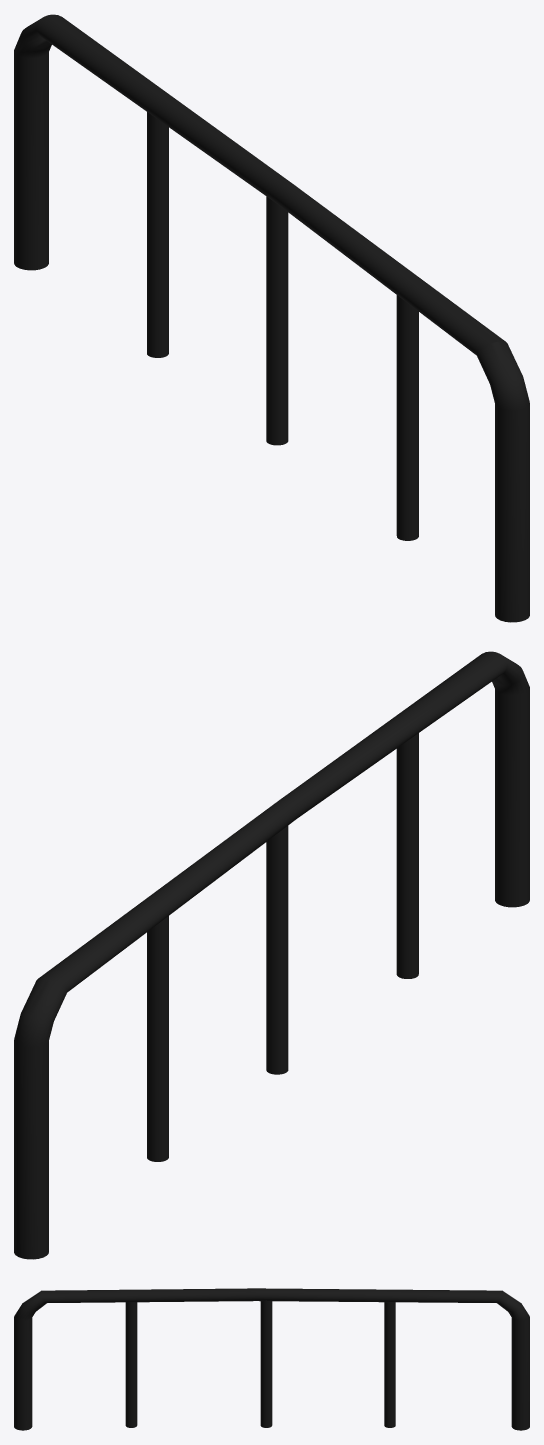
The model's file is hek industrial1.fbx.
3 renders of one model, top to bottom at view 1: azimuth 30°, elevation 25°; view 2: azimuth 150°, elevation 25°; view 3: azimuth 270°, elevation 25°, orthographic. The views are drawn at different scales.
Parts seen in each view (by area): view 1: pCylinder24; view 2: pCylinder24; view 3: pCylinder24.
Boxes of the visible parts, left/top/right/bottom form: pCylinder24: left=14, top=14, right=529, bottom=622; pCylinder24: left=14, top=651, right=529, bottom=1259; pCylinder24: left=14, top=1288, right=529, bottom=1430.
Size of the model in its own units: 0.0889 by 0.7417 by 2.52.
Materials: 1 (1 with a texture image).
